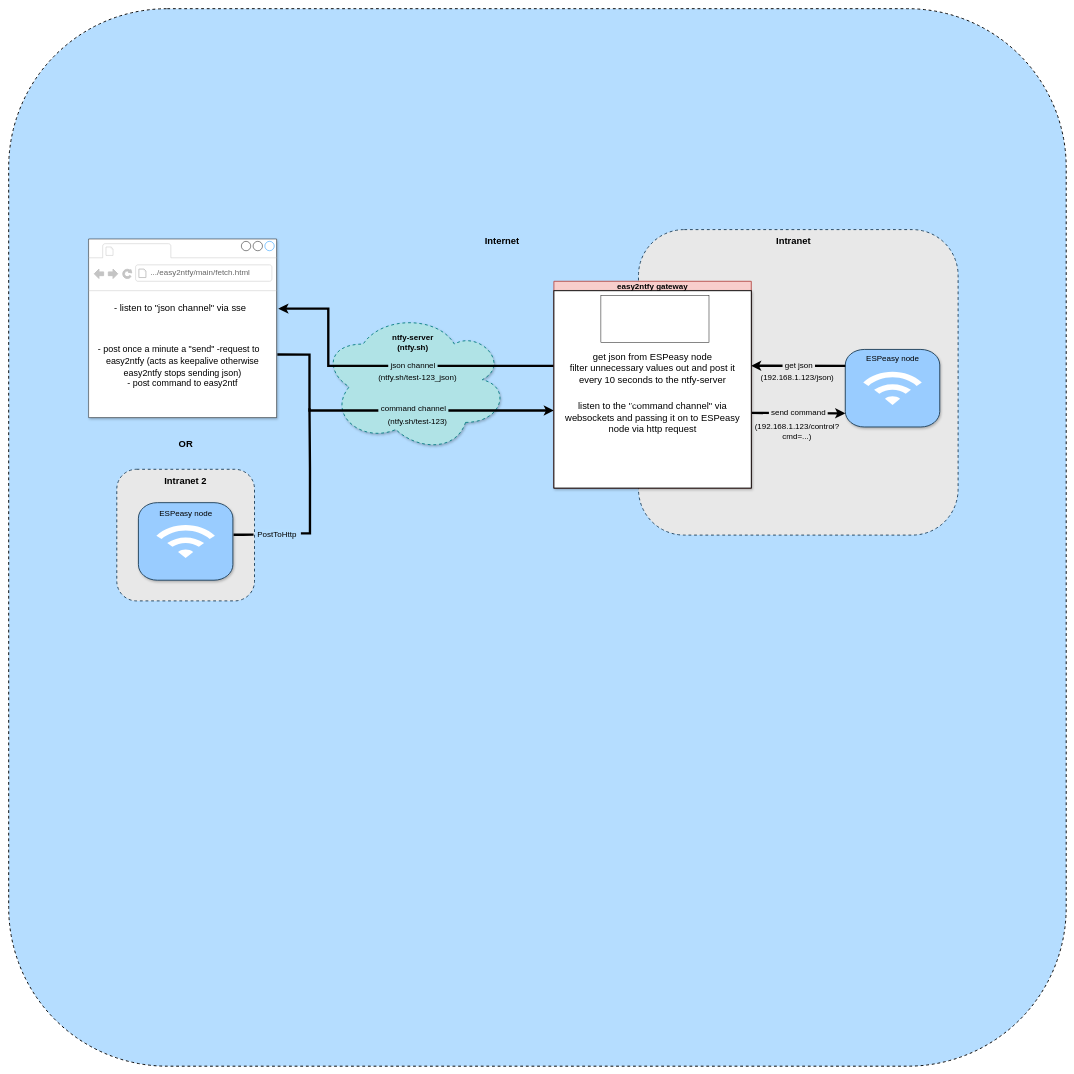
The diagram is 1074 pixels wide and 1074 high, and some of its shapes have lost their labels. The centre of each missing label's shape, as x and y in pixels:
"Page 1" belongs at point 142,250.
"Parameter: Channel: test-123 Server: ntfy.sh default IP: 192.168.1.123" belongs at point 654,318.
